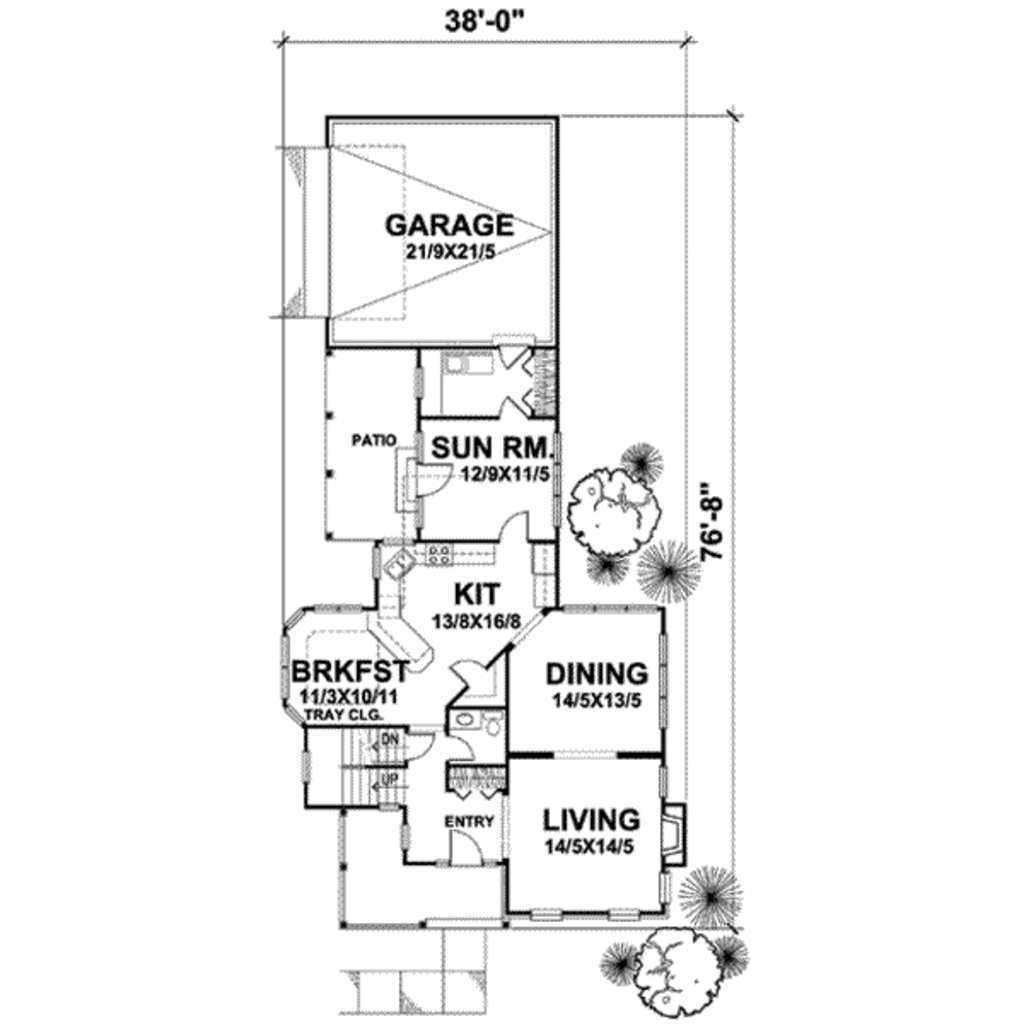door: (493, 506, 536, 547), (410, 462, 455, 497), (440, 725, 475, 766), (443, 657, 487, 689), (450, 828, 479, 871), (489, 394, 531, 419)
twin_sink: (387, 551, 420, 591)
windows: (541, 429, 567, 531), (651, 624, 675, 734), (561, 601, 654, 617), (276, 633, 297, 699), (599, 903, 645, 925), (522, 909, 568, 926), (297, 748, 314, 787)
